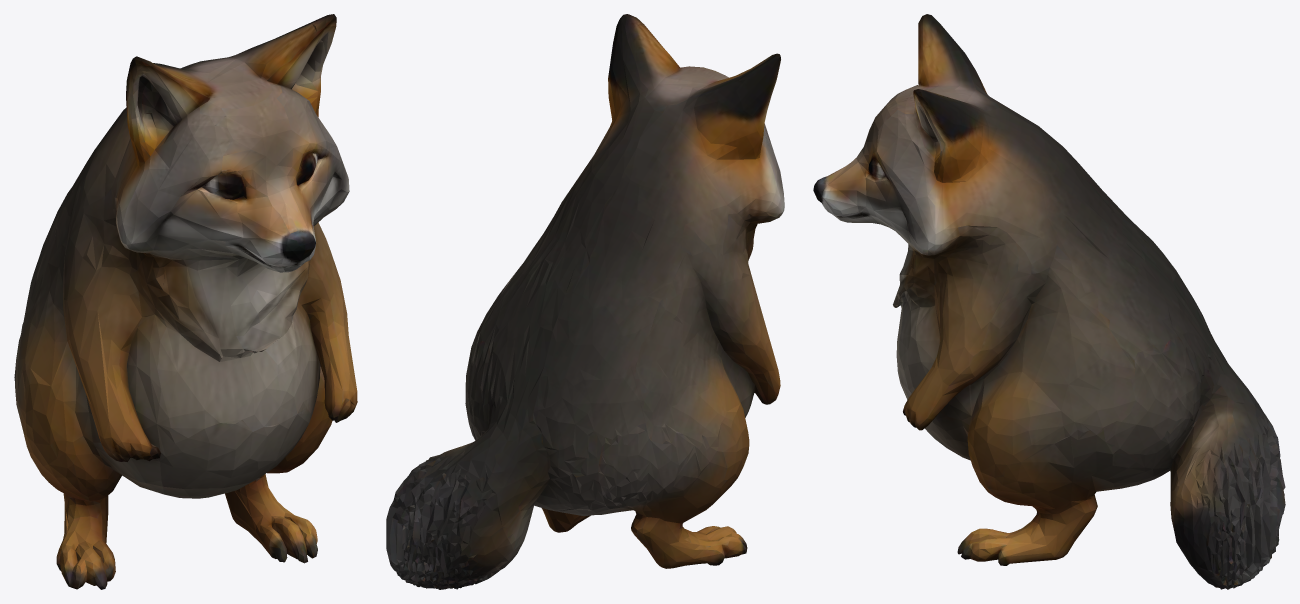
File: coyote.glb
3 views of the same model, side by side, from view 1: azimuth 30°, elevation 25°; view 2: azimuth 150°, elevation 25°; view 3: azimuth 270°, elevation 25° (orthographic). The views are drawn at different scales.
Parts seen in each view (by area): view 1: geometry_0; view 2: geometry_0; view 3: geometry_0.
Part boxes in pixels (box(x1,y1,x2,y2)): geometry_0: box(14, 14, 357, 589); geometry_0: box(386, 14, 784, 589); geometry_0: box(813, 14, 1285, 589).
Size of the model in its own units: 0.5786 by 1 by 0.91.
Materials: 1 (1 with a texture image).
